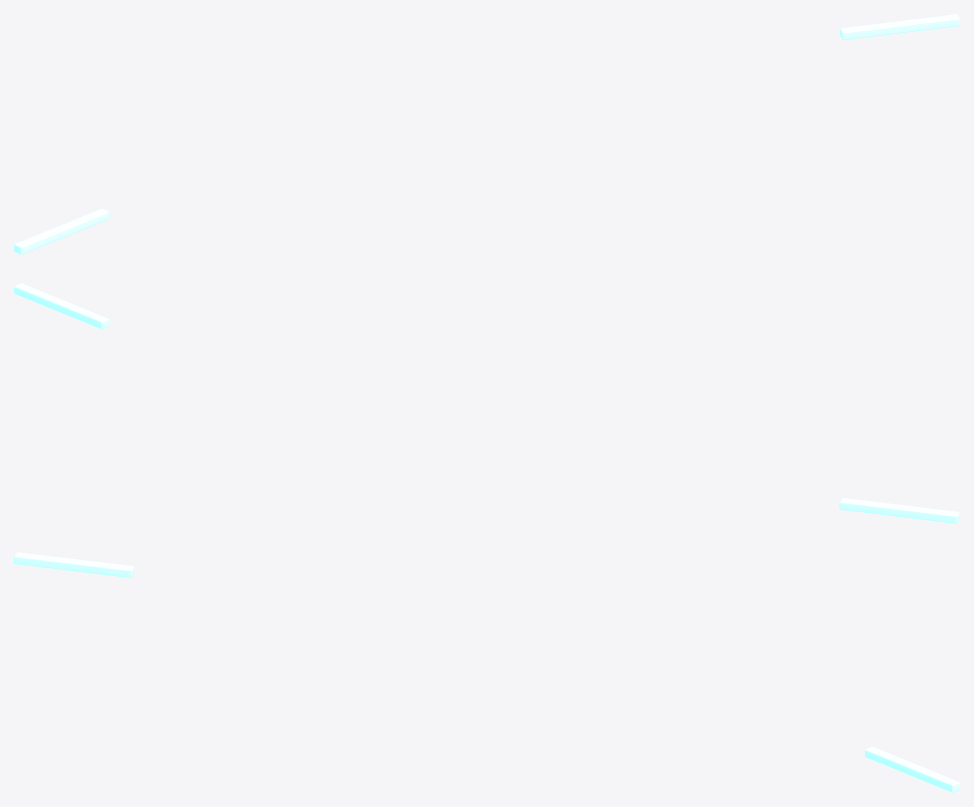
File: GEO_Headlight_DRL.glb
3 renders of one model, top to bottom at view 1: azimuth 30°, elevation 25°; view 2: azimuth 150°, elevation 25°; view 3: azimuth 330°, elevation 25°, orthographic.
Visible parts, largest first — view 1: GEO_Headlight_DRL; view 2: GEO_Headlight_DRL; view 3: GEO_Headlight_DRL.
Part boxes in pixels (left/top/right/bottom): GEO_Headlight_DRL: left=14, top=14, right=959, bottom=254; GEO_Headlight_DRL: left=14, top=283, right=959, bottom=523; GEO_Headlight_DRL: left=14, top=552, right=959, bottom=792.
Bounding box in the file's own units: 1.42 × 0.012 × 0.0523.
